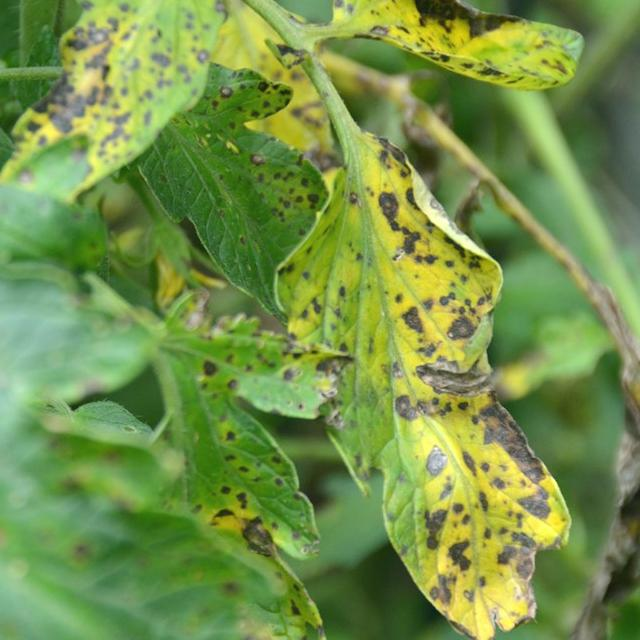Tomato Septoria leaf spot: (280, 116, 605, 640), (122, 291, 331, 640), (0, 0, 214, 200), (315, 0, 587, 94)
